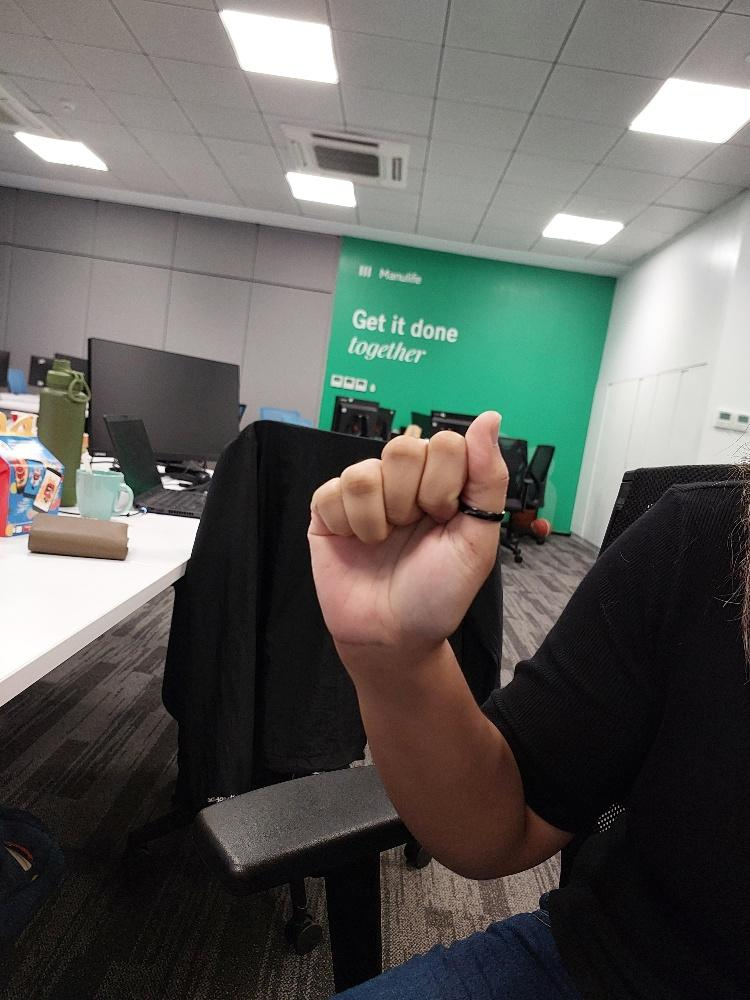a: (304, 405, 511, 650)
